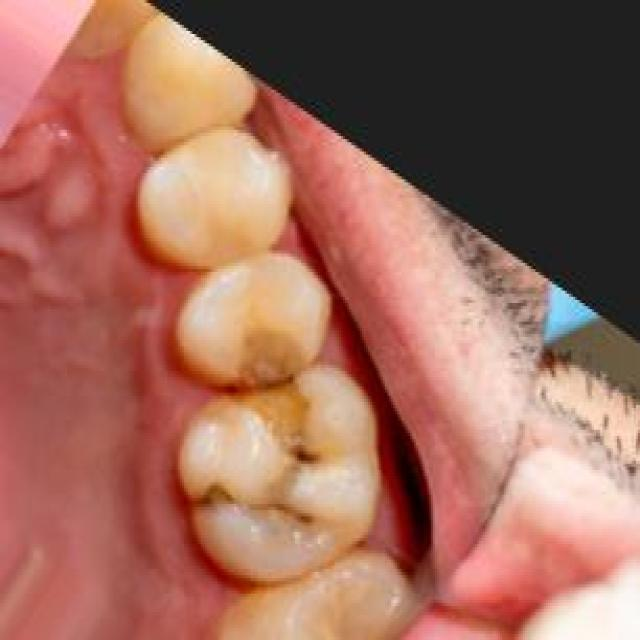caries: (233, 318, 325, 473), (246, 487, 330, 546), (188, 477, 240, 529)
